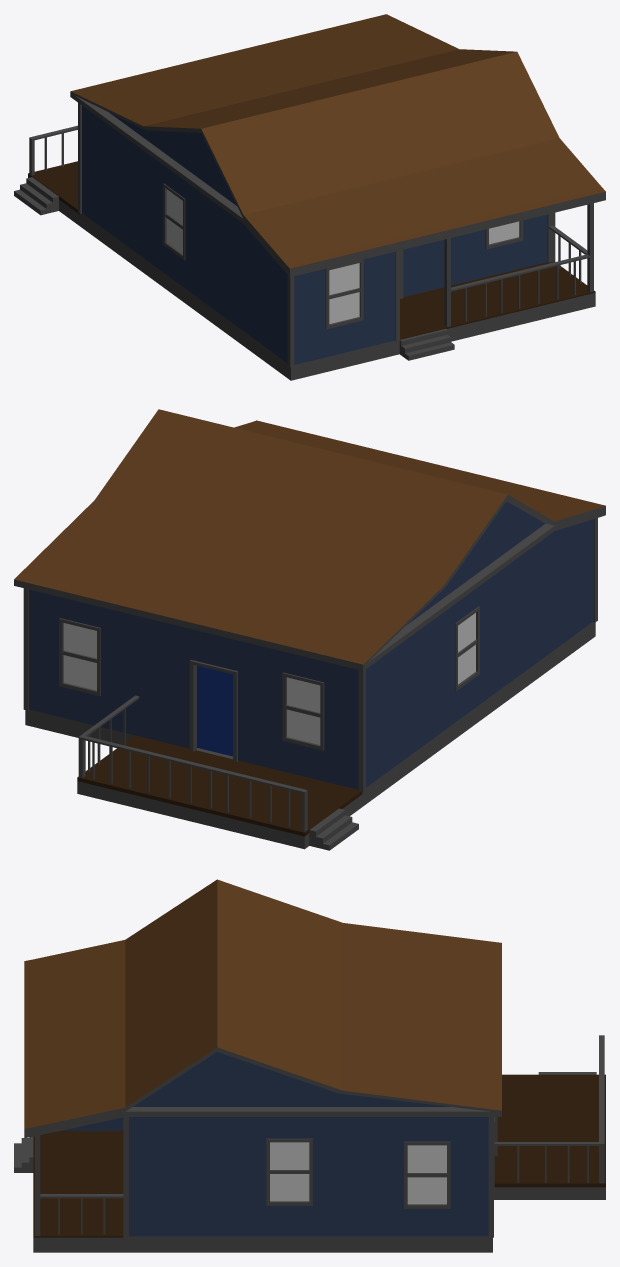
Rendered from House.dae.
3 views of the same model, one above another, from view 1: azimuth 30°, elevation 25°; view 2: azimuth 150°, elevation 25°; view 3: azimuth 270°, elevation 25° (orthographic). The views are drawn at different scales.
Visible parts, largest first — view 1: House, House_001; view 2: House, House_001; view 3: House, House_001.
Part boxes in pixels (left/top/right/bottom): House: left=14, top=14, right=605, bottom=380; House_001: left=166, top=189, right=519, bottom=323; House: left=14, top=409, right=605, bottom=850; House_001: left=63, top=613, right=475, bottom=744; House: left=14, top=879, right=605, bottom=1252; House_001: left=270, top=1142, right=446, bottom=1204.
Size of the model in its own units: 10.8 by 15.46 by 6.01.
